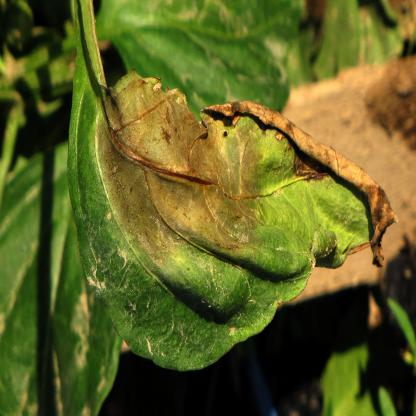bell pepper leaf spot: (65, 40, 398, 382)
